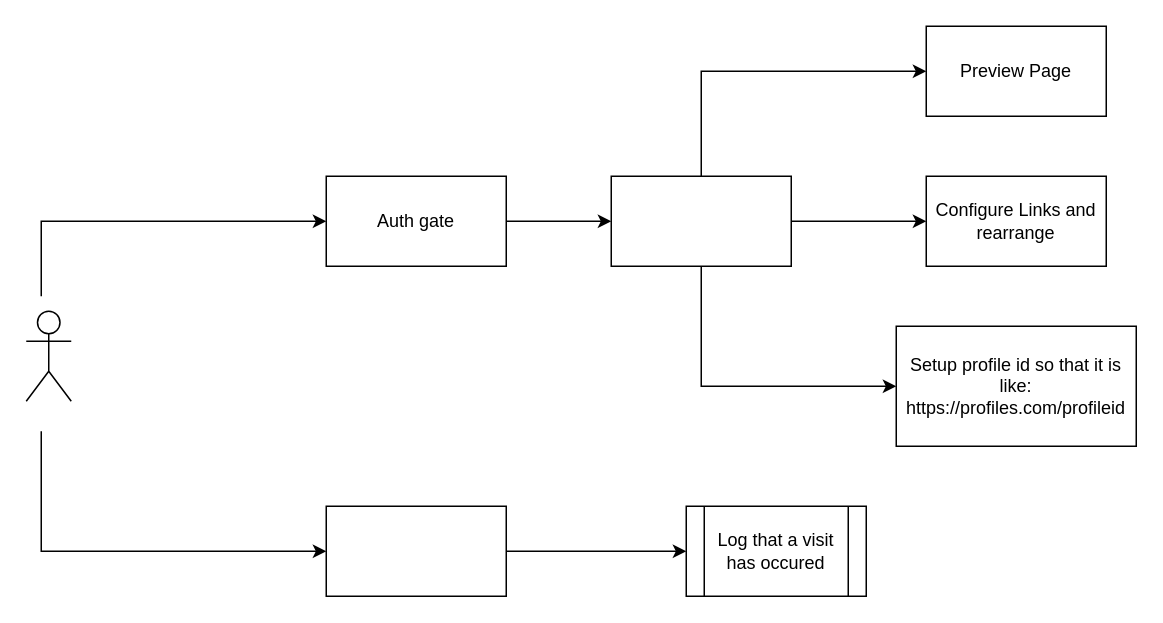
The diagram is 1163 pixels wide and 623 high, and some of its shapes have lost their labels. Each missing label, with the centre of its shape:
"Actor" belongs at (48,355).
"Manage My Page" belongs at (700,220).
"Profile Page" belongs at (415,550).
